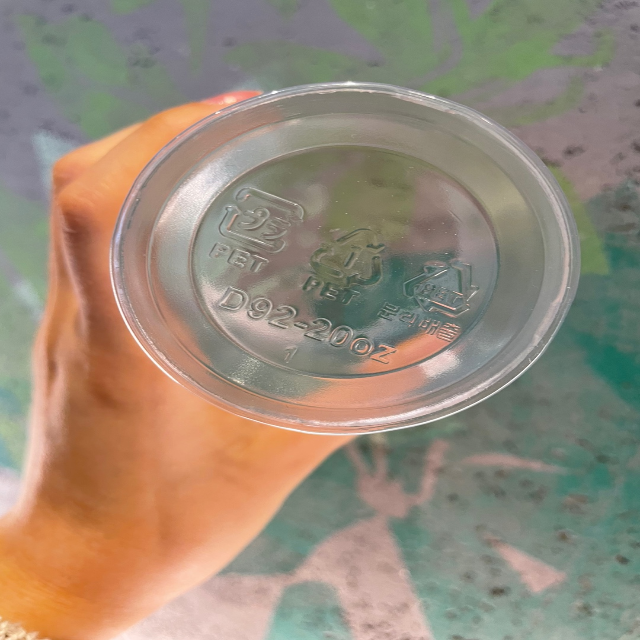pet: (380, 248, 489, 351), (203, 177, 307, 282), (300, 219, 389, 309)
